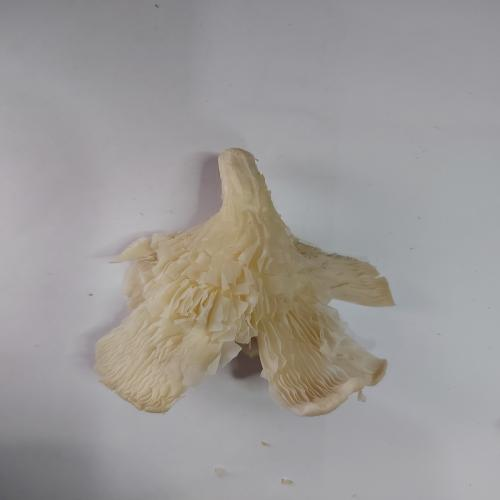Oyster Mushroom: (92, 147, 396, 418)
